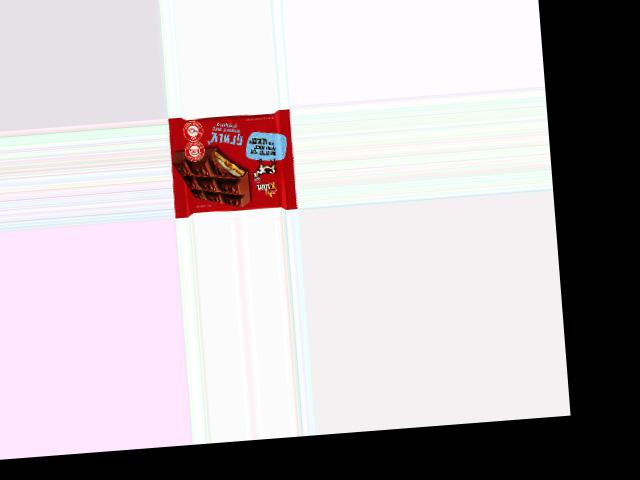chocolate: (169, 108, 293, 217)
